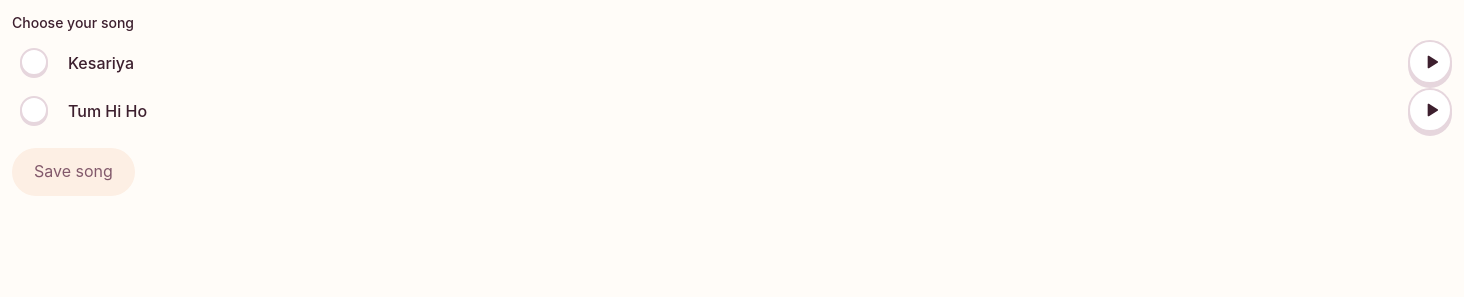
it: SongPicker › shows the error when the save fails
What coordinates should you click on to do the following:
click the radio button labelled "Kesariya"
I would click on:
 (34, 62)
Its box is [20,48,48,76].
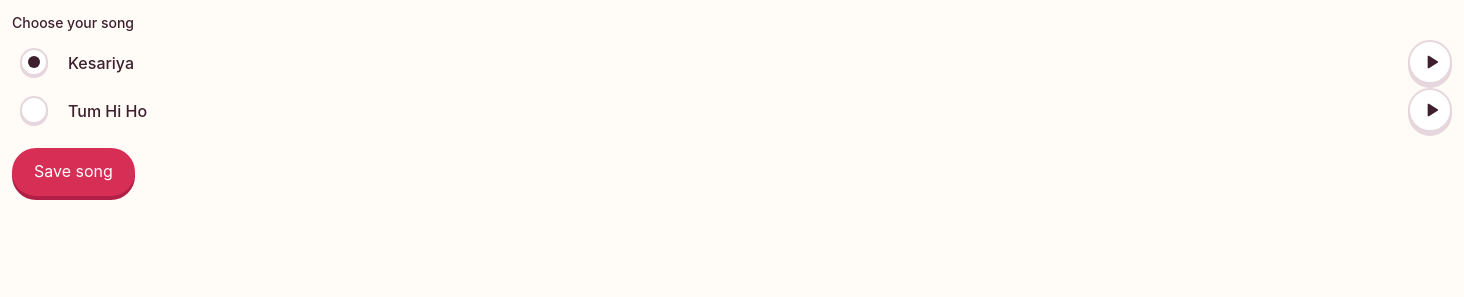
What coordinates should you click on to do the following:
click the button "Save song"
I would click on:
 (73, 172)
Its box is [12,148,135,196].
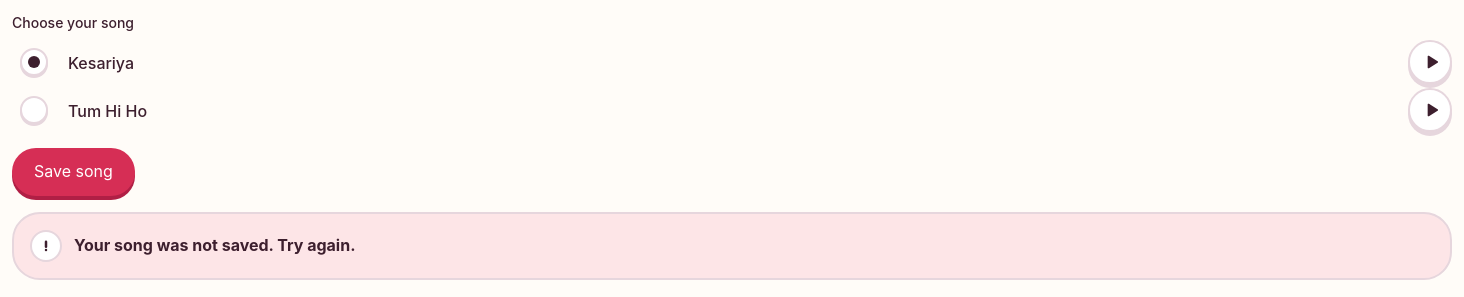
Now the text "Your song was not saved. Try again." is shown, box [74,232,356,258]
